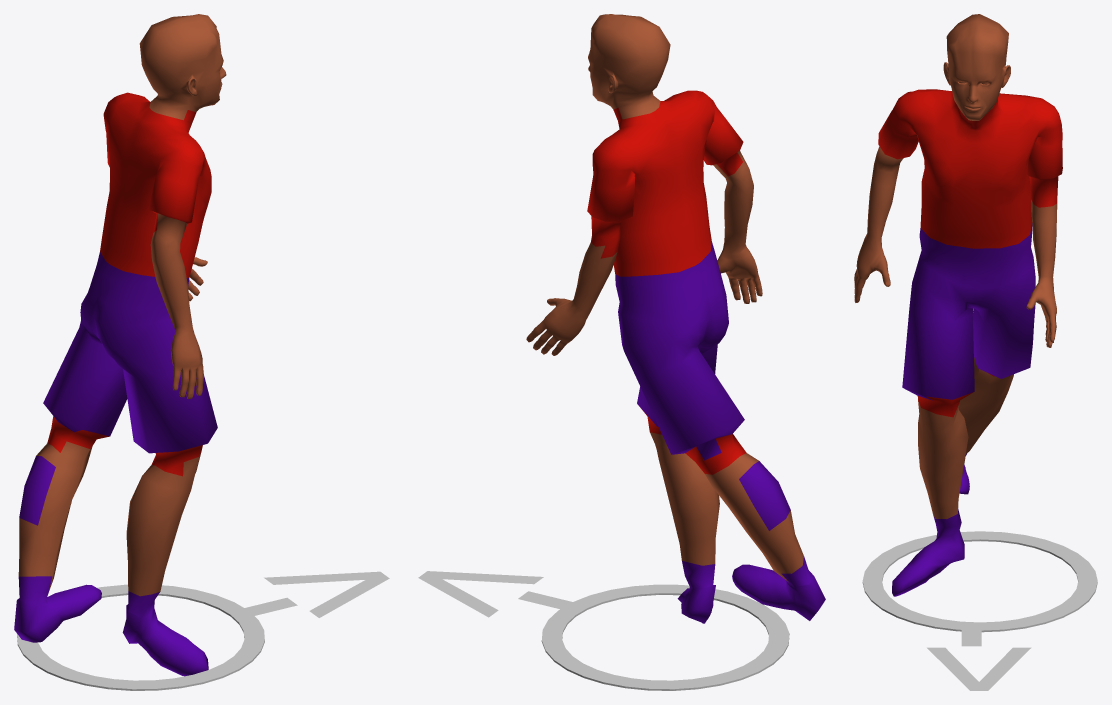
Rendered from player_000020.obj.
The picture shows the model from 3 angles, left to right: view 1: azimuth 30°, elevation 25°; view 2: azimuth 150°, elevation 25°; view 3: azimuth 270°, elevation 25°; orthographic projection. The views are drawn at different scales.
Visible parts, largest first — view 1: soccerplayer.002_mesh.003, Circle, Text.001_Mesh.001; view 2: soccerplayer.002_mesh.003, Circle, Text.001_Mesh.001; view 3: soccerplayer.002_mesh.003, Circle, Text.001_Mesh.001.
Part boxes in pixels (x1,y1,x2,y2): soccerplayer.002_mesh.003: [14, 14, 226, 676]; Circle: [17, 584, 264, 690]; Text.001_Mesh.001: [239, 571, 389, 617]; soccerplayer.002_mesh.003: [526, 14, 825, 623]; Circle: [541, 584, 789, 690]; Text.001_Mesh.001: [418, 571, 575, 617]; soccerplayer.002_mesh.003: [854, 14, 1062, 596]; Circle: [862, 531, 1097, 632]; Text.001_Mesh.001: [927, 624, 1031, 690].
Size of the model in its own units: 1.94 by 3 by 1.13.
